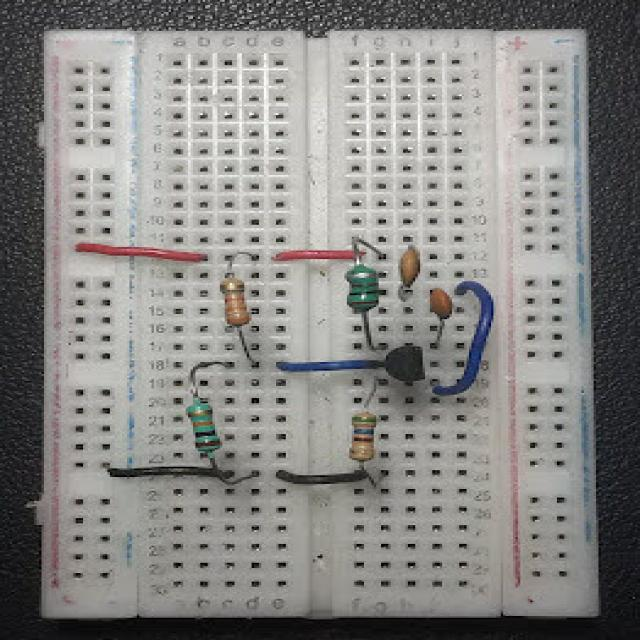Capacitor Electrolitico: (185, 401, 225, 457), (342, 263, 383, 314), (218, 276, 254, 330), (349, 409, 379, 464)
